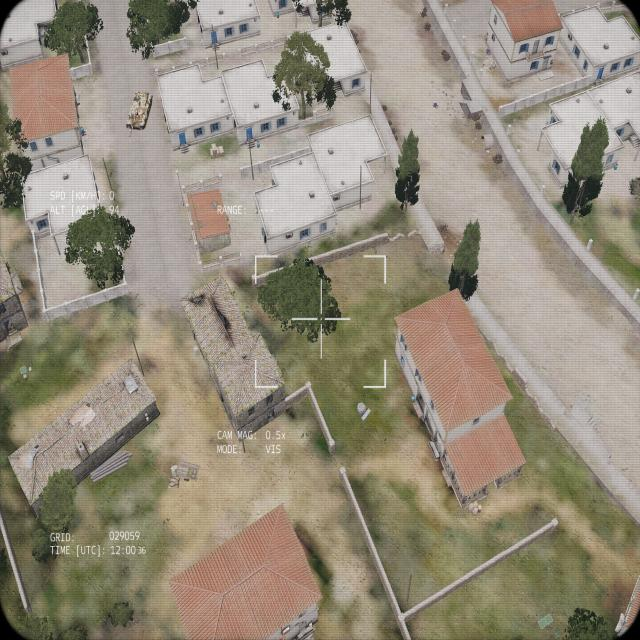tank: (124, 88, 154, 138)
